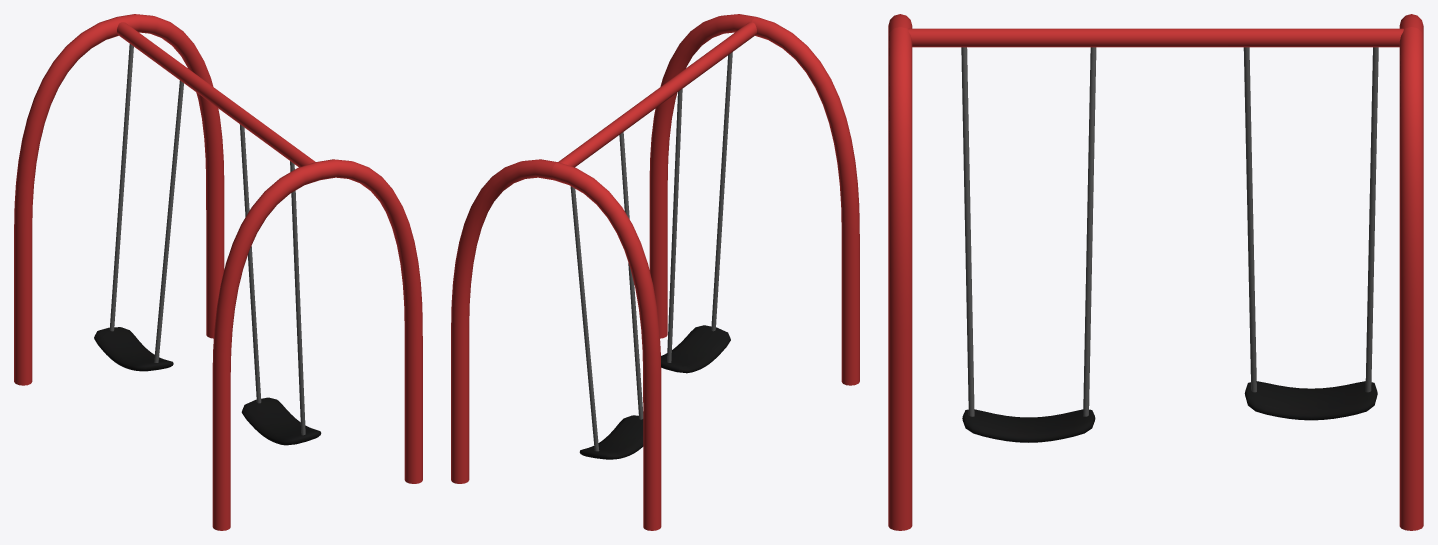
File: swings.obj
3 views of the same model, side by side, from view 1: azimuth 30°, elevation 25°; view 2: azimuth 150°, elevation 25°; view 3: azimuth 270°, elevation 25° (orthographic). The views are drawn at different scales.
Parts seen in each view (by area): view 1: Cylinder.012_Cylinder.022, Plane.005_Plane.010, Plane.002_Plane.009; view 2: Cylinder.012_Cylinder.022, Plane.002_Plane.009, Plane.005_Plane.010; view 3: Cylinder.012_Cylinder.022, Plane.005_Plane.010, Plane.002_Plane.009.
Boxes of the visible parts, x1,y1,x2,y2 form: Cylinder.012_Cylinder.022: [14, 14, 422, 530]; Plane.005_Plane.010: [94, 44, 183, 371]; Plane.002_Plane.009: [239, 124, 321, 445]; Cylinder.012_Cylinder.022: [451, 14, 859, 530]; Plane.002_Plane.009: [661, 52, 732, 373]; Plane.005_Plane.010: [570, 132, 643, 459]; Cylinder.012_Cylinder.022: [888, 14, 1423, 530]; Plane.005_Plane.010: [1243, 47, 1378, 420]; Plane.002_Plane.009: [961, 47, 1096, 442].
Bounding box in the file's own units: 1.39 × 2.19 × 2.42.
